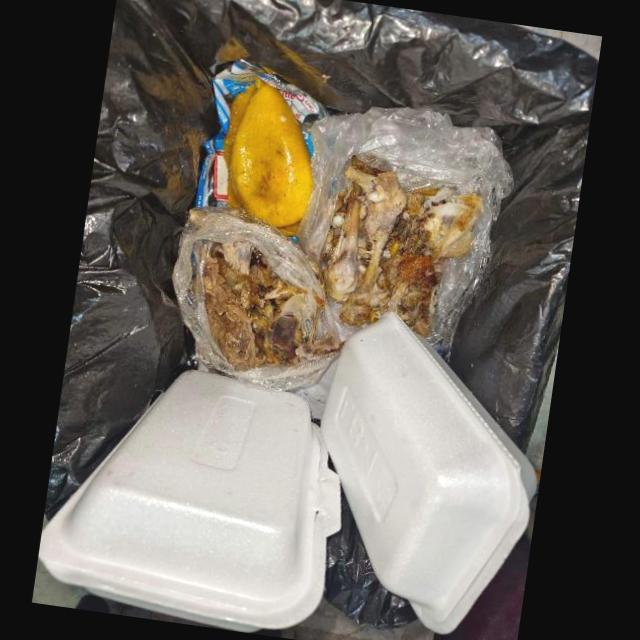thuc_an_thua: (324, 156, 483, 337), (202, 241, 340, 370)
tui_ni_long: (297, 106, 514, 359), (173, 205, 344, 390)
vo_trai_cay: (223, 78, 315, 236)
xop: (38, 368, 342, 633), (320, 310, 538, 634)
